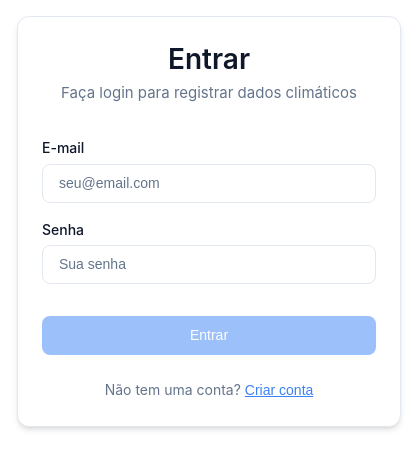
Test: LoginView › should show password validation error when too short
The width and height of the screenshot is (419, 472).
Type "123" into the password field labelled "Senha". click: point(209, 265)
box: 42,245 -> 376,284
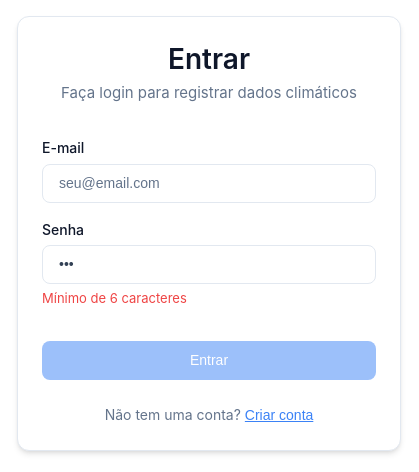
Expected: the text with class "error-text" reads "Mínimo de 6 caracteres", 42,290 -> 187,306
